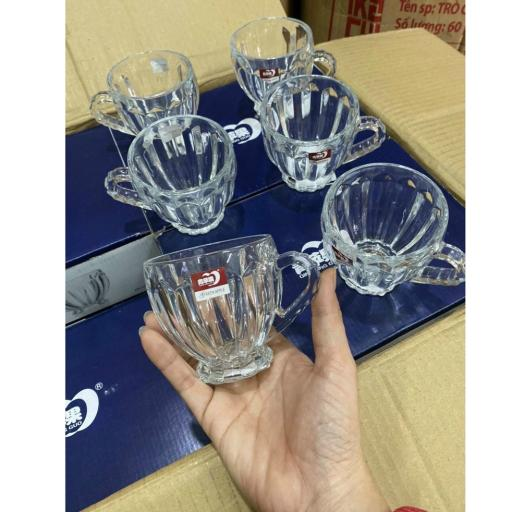cup: (322, 163, 464, 295), (105, 115, 236, 234), (231, 17, 335, 111), (91, 51, 198, 135), (192, 267, 229, 301)
